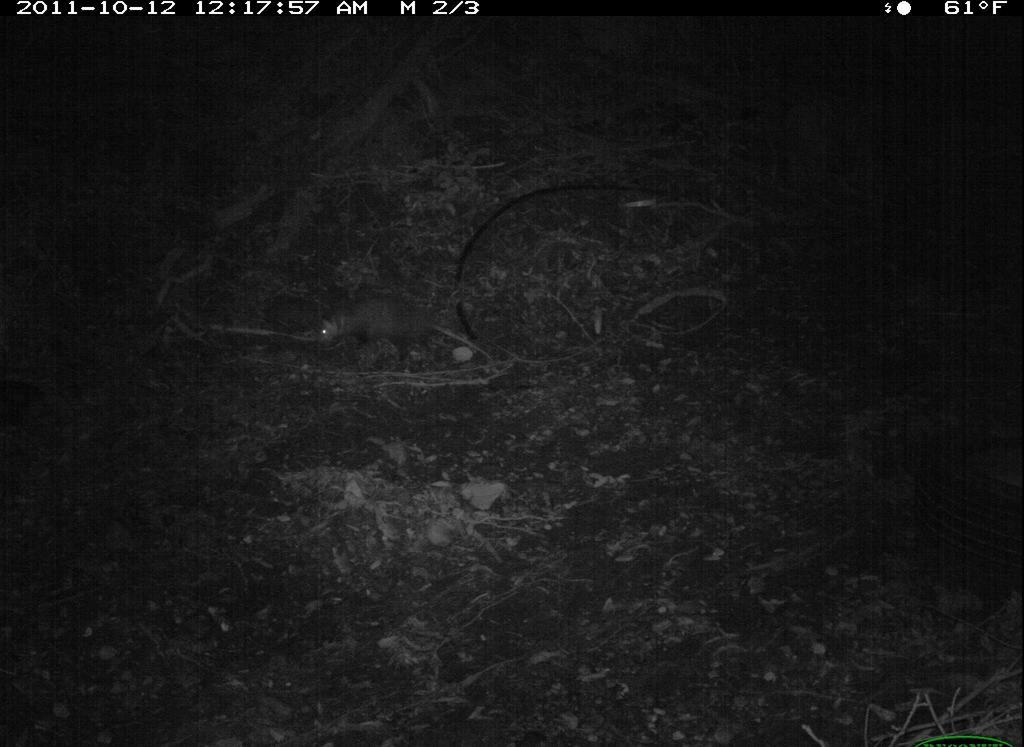opossum: (308, 287, 497, 381)
